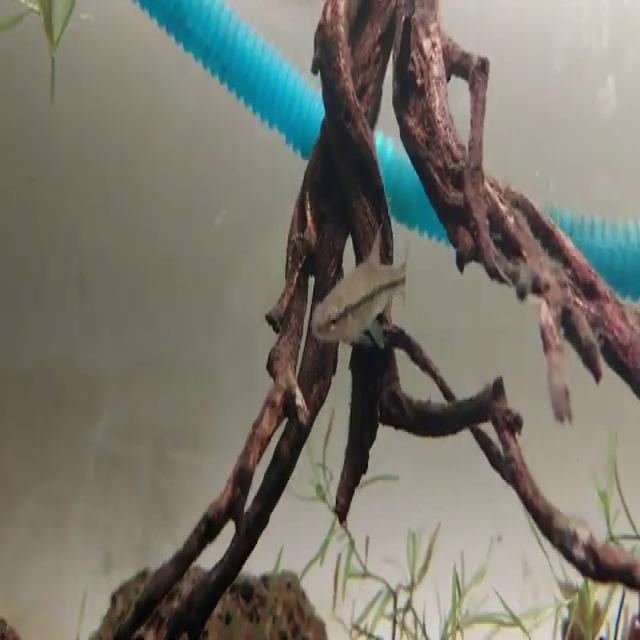Cakil Baligi: (303, 230, 411, 355)
